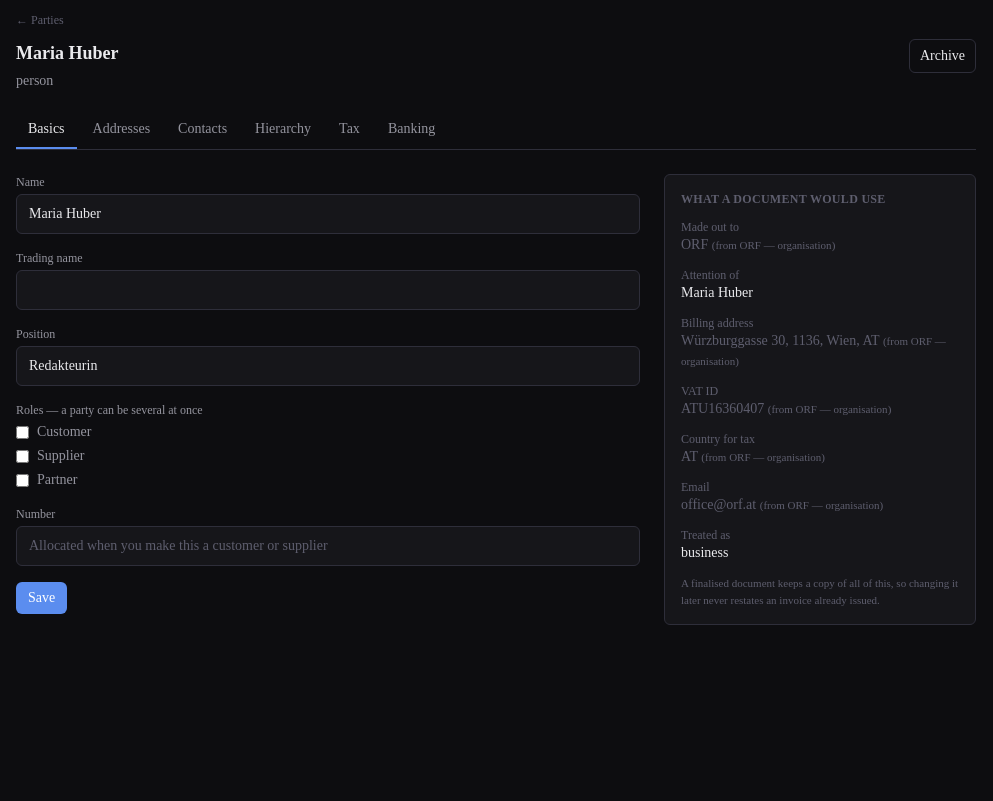
Test case: the Tax tab shows what the server decided › shows a sole trader’s reason
Click the tab "Tax": (350, 130) [327, 111, 372, 149]
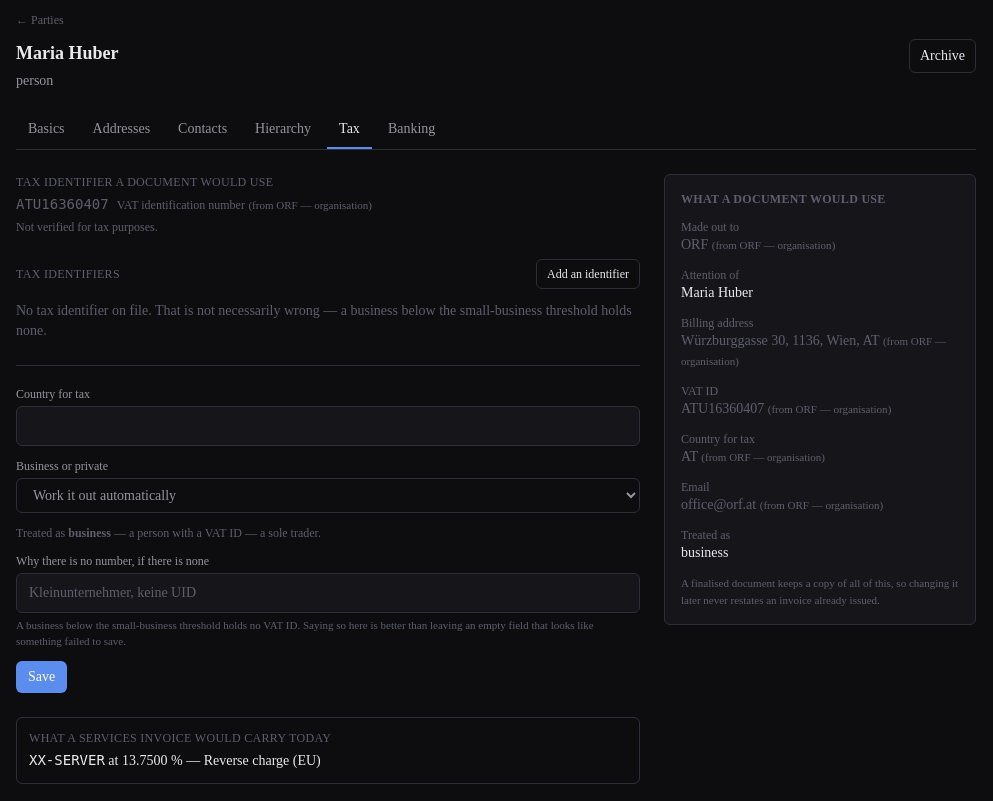
expect the element with test id "party-buyer-type" shows "a person with a VAT ID — a sole trader": met, box [129, 526, 318, 540]
